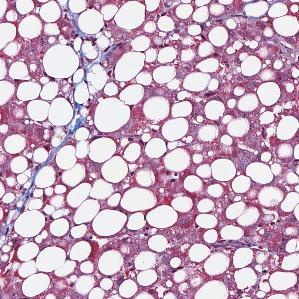fibrosis: (88, 45, 117, 71)
